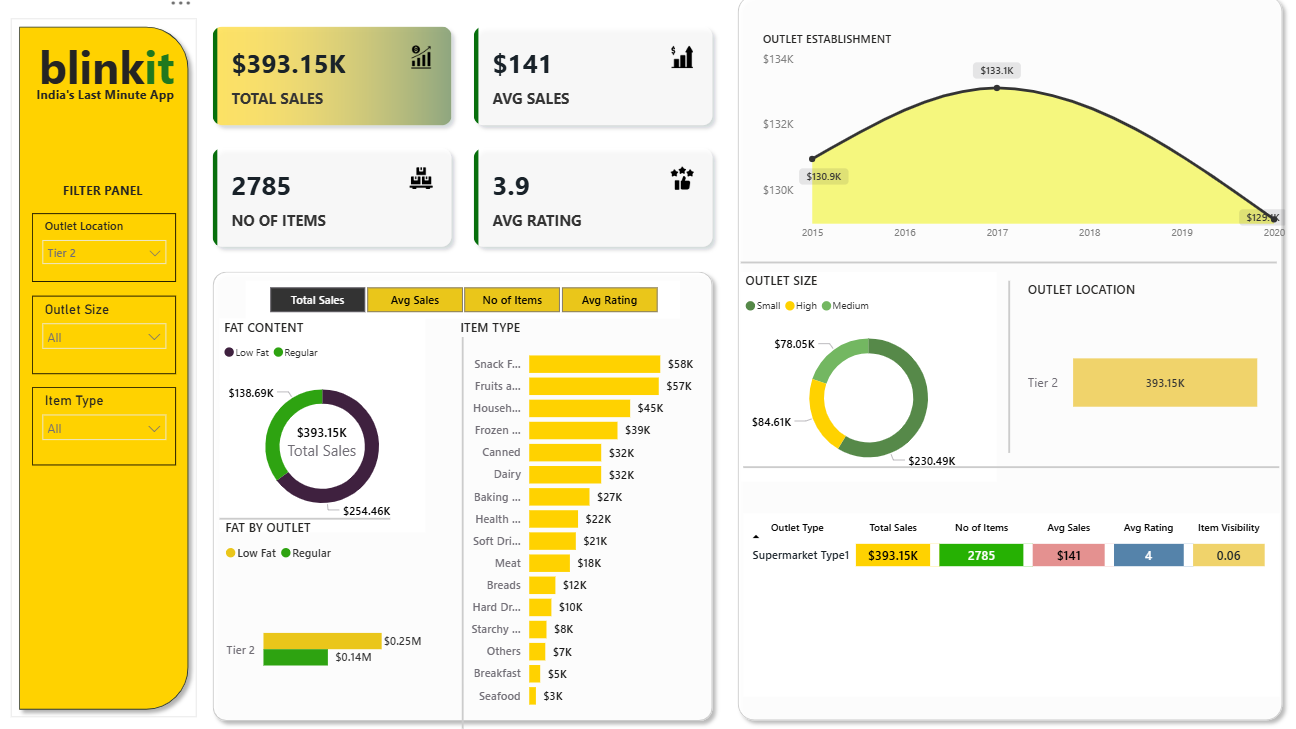

This screenshot's page, from the dashboard's own definition file:
{"tool":"powerbi","page":{"name":"Page 1","canvas":[1400,800],"ordinal":0},"visuals":[{"type":"shape","box":[15,33,199.6,750.4],"z":0},{"type":"textbox","box":[33,46.5,168.1,87.1],"z":1000},{"type":"textbox","box":[31.5,100.6,168.1,33],"z":2000},{"type":"cardVisual","fields":{"Data":["BlinkIT Grocery Data.Total Sales","BlinkIT Grocery Data.Avg Sales","BlinkIT Grocery Data.No of Items","BlinkIT Grocery Data.Avg Rating"]},"box":[214.6,25.5,570.3,270.2],"z":3000},{"type":"shape","box":[222.1,295.7,553.8,499.8],"z":4000},{"type":"donutChart","title":"FAT CONTENT","fields":{"Y":["BlinkIT Grocery Data.Total Sales"],"Category":["BlinkIT Grocery Data.Item Fat Content"]},"box":[238.6,355.7,220.6,229.6],"z":5000},{"type":"slicer","fields":{"Values":["Metrics.Metrics"]},"box":[267.2,315.2,465.3,40.5],"z":6000},{"type":"cardVisual","fields":{"Data":["BlinkIT Grocery Data.Total Sales"]},"box":[292.7,444.3,112.6,87.1],"z":7000},{"type":"clusteredBarChart","title":"FAT BY OUTLET","fields":{"Y":["BlinkIT Grocery Data.Total Sales"],"Category":["BlinkIT Grocery Data.Outlet Location Type"],"Series":["BlinkIT Grocery Data.Item Fat Content"]},"box":[240.1,570.3,220.6,229.6],"z":8000},{"type":"shape","box":[238.6,540.3,183.1,60],"z":9000},{"type":"shape","box":[480.3,375.2,39,420.2],"z":10000},{"type":"shape","box":[785,0,601.8,795.5],"z":11000},{"type":"lineChart","title":"OUTLET ESTABLISHMENT","fields":{"Y":["BlinkIT Grocery Data.Total Sales"],"Category":["BlinkIT Grocery Data.Outlet Establishment Year"]},"box":[816.5,46.5,570.3,234.1],"z":12000},{"type":"shape","box":[797,265.7,574.8,60],"z":13000},{"type":"donutChart","title":"OUTLET SIZE","fields":{"Y":["BlinkIT Grocery Data.Total Sales"],"Category":["BlinkIT Grocery Data.Outlet Size"],"Series":["BlinkIT Grocery Data.Outlet Size"]},"box":[797,306.2,274.7,225.1],"z":14000},{"type":"shape","box":[1070.1,315.2,31.5,184.6],"z":15000},{"type":"funnel","title":"OUTLET LOCATION","fields":{"Y":["Sum(BlinkIT Grocery Data.Sales)"],"Category":["BlinkIT Grocery Data.Outlet Location Type"]},"box":[1100.1,315.2,261.2,201.1],"z":16000},{"type":"shape","box":[800,495.3,574.8,40.5],"z":17000},{"type":"pivotTable","fields":{"Rows":["BlinkIT Grocery Data.Outlet Type"],"Values":["BlinkIT Grocery Data.Total Sales","BlinkIT Grocery Data.No of Items","BlinkIT Grocery Data.Avg Sales","BlinkIT Grocery Data.Avg Rating","Avg(BlinkIT Grocery Data.Item Visibility)"]},"box":[800,564.3,574.8,196.6],"z":18000},{"type":"slicer","fields":{"Values":["BlinkIT Grocery Data.Outlet Location Type"]},"box":[37.5,243.1,154.6,73.5],"z":19000},{"type":"slicer","fields":{"Values":["BlinkIT Grocery Data.Outlet Size"]},"box":[37.5,331.7,154.6,84],"z":21000},{"type":"slicer","fields":{"Values":["BlinkIT Grocery Data.Item Type"]},"box":[37.5,429.2,154.6,84],"z":22000},{"type":"barChart","title":"ITEM TYPE","fields":{"Y":["BlinkIT Grocery Data.Total Sales"],"Category":["BlinkIT Grocery Data.Item Type"]},"box":[492.3,355.7,265.7,429.2],"z":23000},{"type":"textbox","box":[66,204.1,105.1,37.5],"z":23001},{"type":"bookmarkNavigator","box":[0,0,600,50],"z":23002},{"type":"bookmarkNavigator","box":[0,0,600,50],"z":23003}]}

Visuals, with their boxes in screenshot pixels (x1, y1, x2, y2), scaled from the page's 1400x800 canvas onto the 1296x729 screenshot:
shape: bbox=(14, 30, 199, 714)
textbox: bbox=(31, 42, 186, 122)
textbox: bbox=(29, 92, 185, 122)
cardVisual - BlinkIT Grocery Data.Total Sales x BlinkIT Grocery Data.Avg Sales: bbox=(199, 23, 727, 269)
shape: bbox=(206, 269, 718, 725)
"FAT CONTENT" donutChart: bbox=(221, 324, 425, 533)
slicer - Metrics.Metrics: bbox=(247, 287, 678, 324)
cardVisual - BlinkIT Grocery Data.Total Sales: bbox=(271, 405, 375, 484)
"FAT BY OUTLET" clusteredBarChart: bbox=(222, 520, 426, 728)
shape: bbox=(221, 492, 390, 547)
shape: bbox=(445, 342, 481, 725)
shape: bbox=(727, 0, 1284, 725)
"OUTLET ESTABLISHMENT" lineChart: bbox=(756, 42, 1284, 256)
shape: bbox=(738, 242, 1270, 297)
"OUTLET SIZE" donutChart: bbox=(738, 279, 992, 484)
shape: bbox=(991, 287, 1020, 455)
"OUTLET LOCATION" funnel: bbox=(1018, 287, 1260, 470)
shape: bbox=(741, 451, 1273, 488)
pivotTable - BlinkIT Grocery Data.Outlet Type x BlinkIT Grocery Data.Total Sales: bbox=(741, 514, 1273, 693)
slicer - BlinkIT Grocery Data.Outlet Location Type: bbox=(35, 222, 178, 289)
slicer - BlinkIT Grocery Data.Outlet Size: bbox=(35, 302, 178, 379)
slicer - BlinkIT Grocery Data.Item Type: bbox=(35, 391, 178, 468)
"ITEM TYPE" barChart: bbox=(456, 324, 702, 715)
textbox: bbox=(61, 186, 158, 220)
bookmarkNavigator: bbox=(0, 0, 555, 46)
bookmarkNavigator: bbox=(0, 0, 555, 46)
